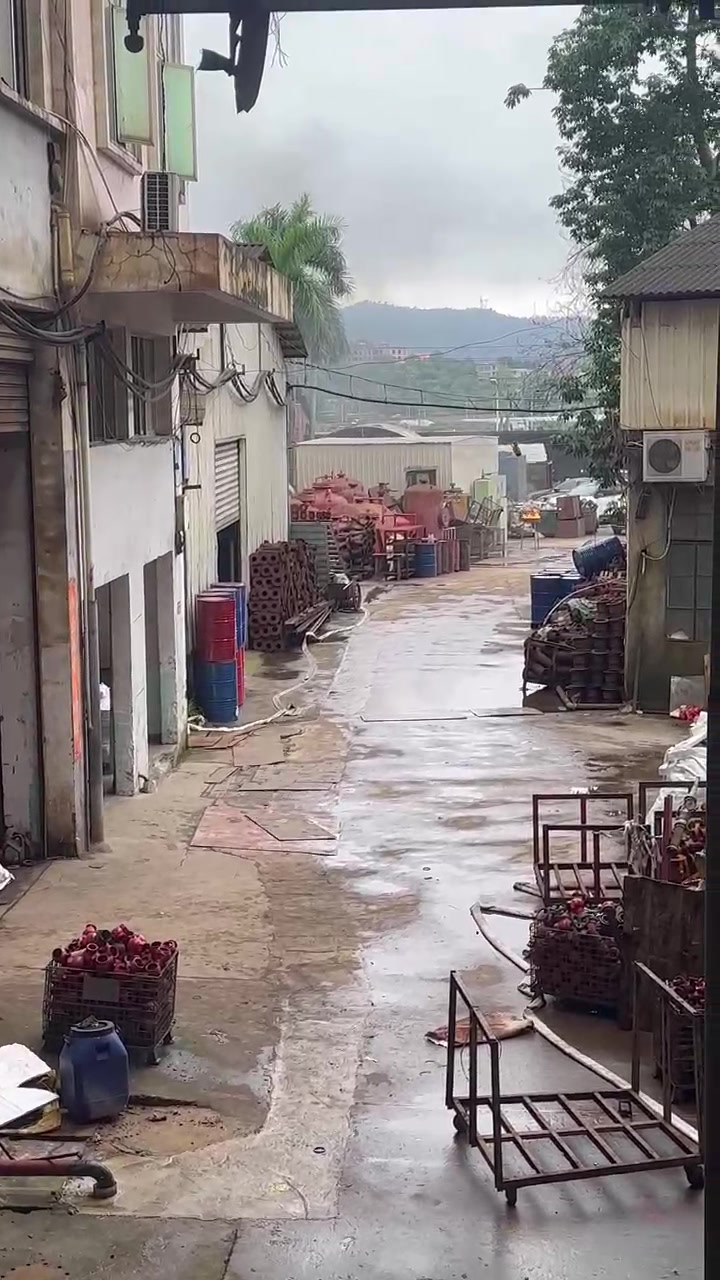fire: (522, 508, 540, 517)
